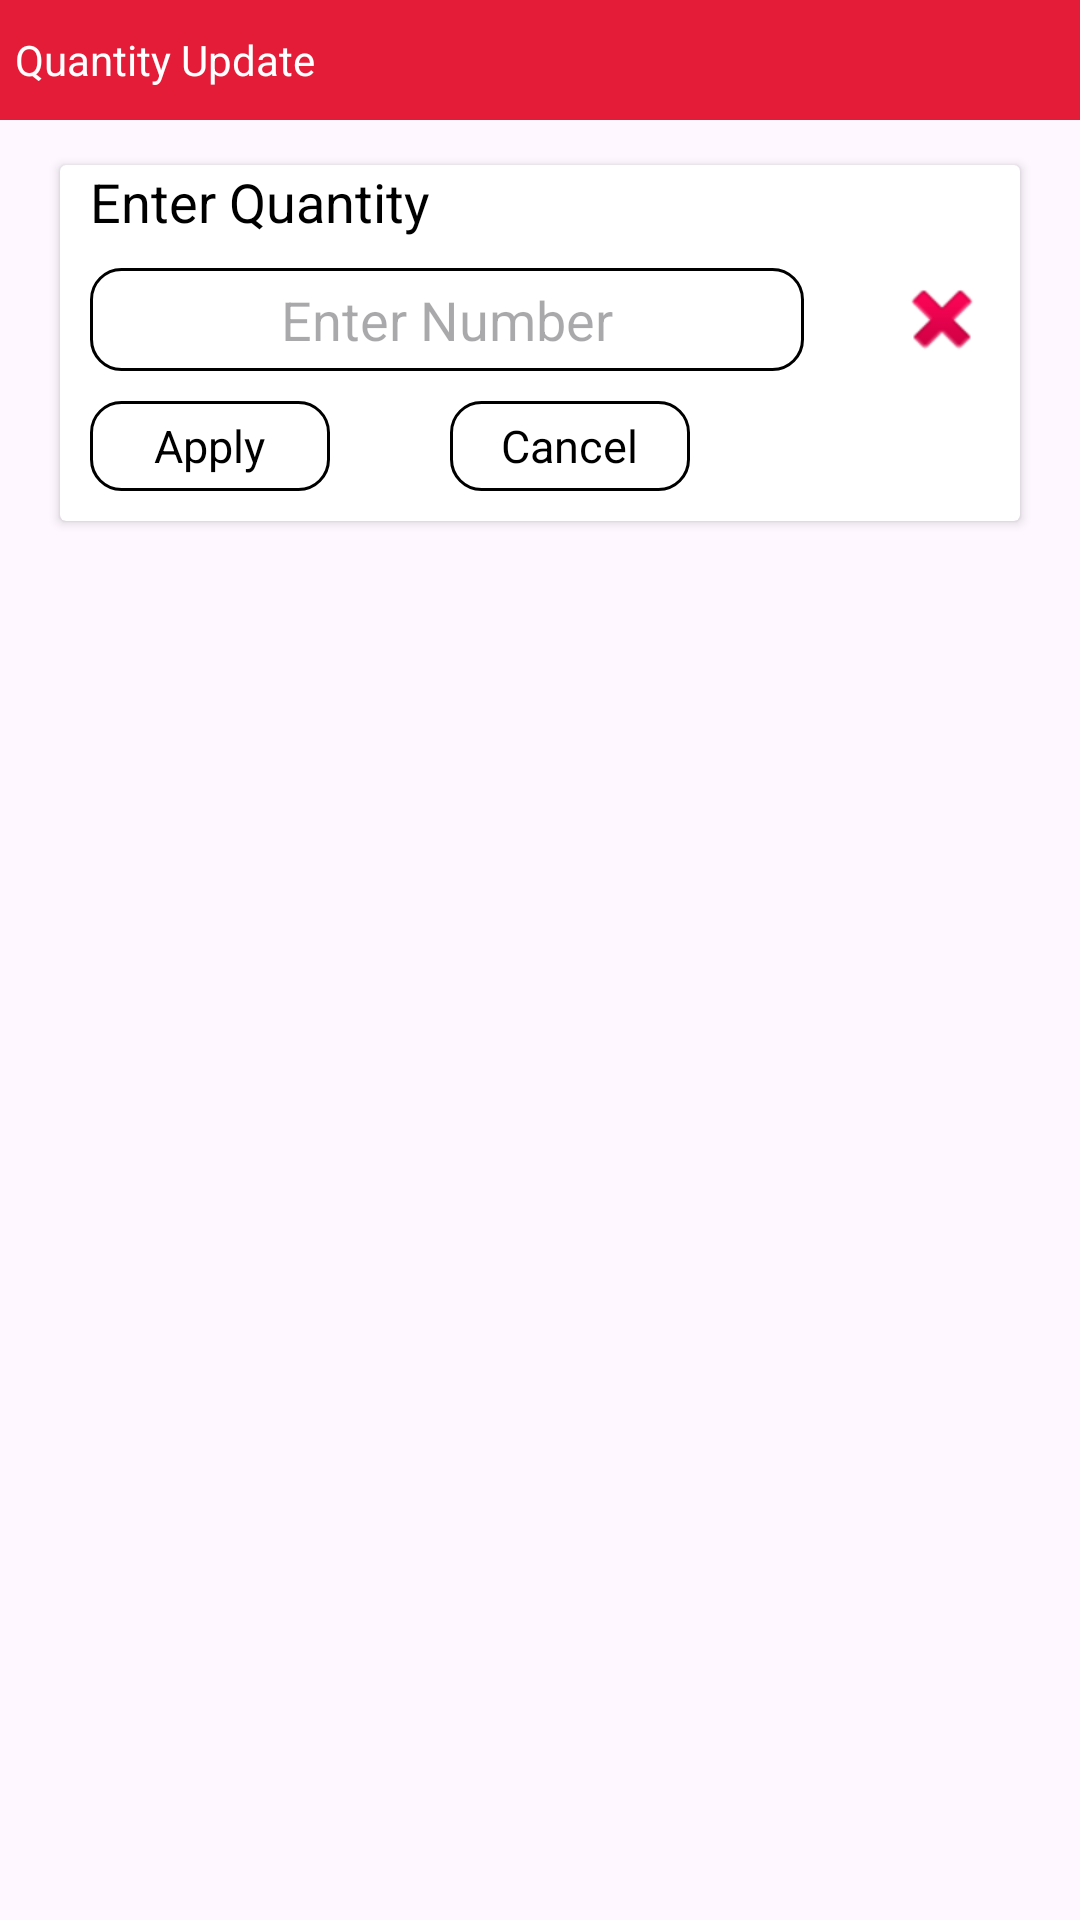

Named icons in this screenshot (1080x1920) and their centers, point (x, y):
delete: point (942, 319)
